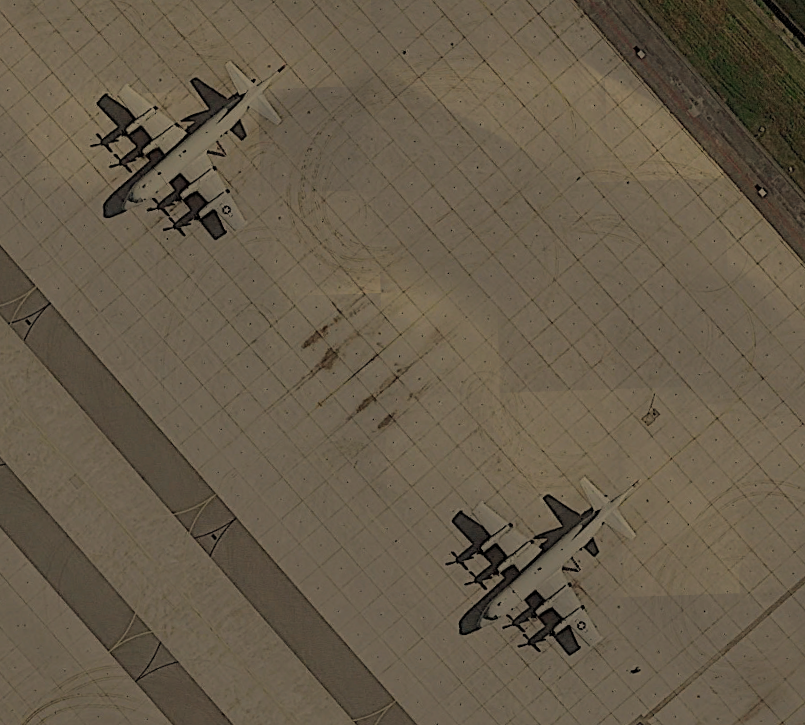A9: (449, 471, 645, 661), (110, 60, 292, 239)
